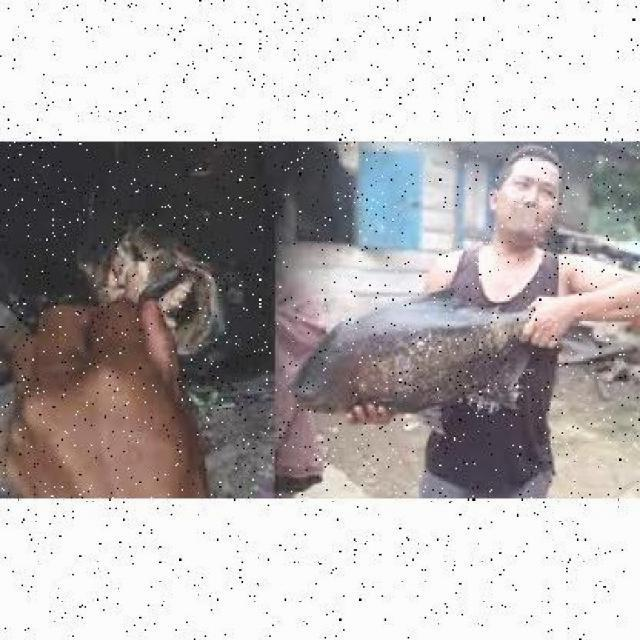ikan-pacu: (288, 293, 558, 418)
